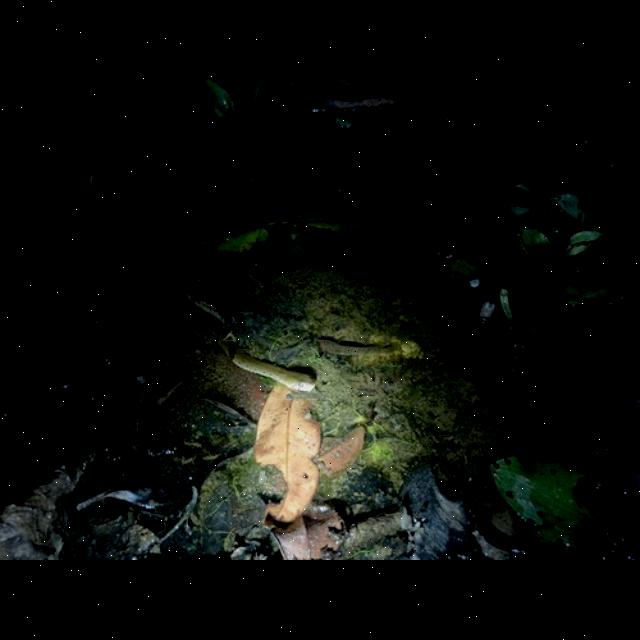snake: (212, 349, 322, 396)
